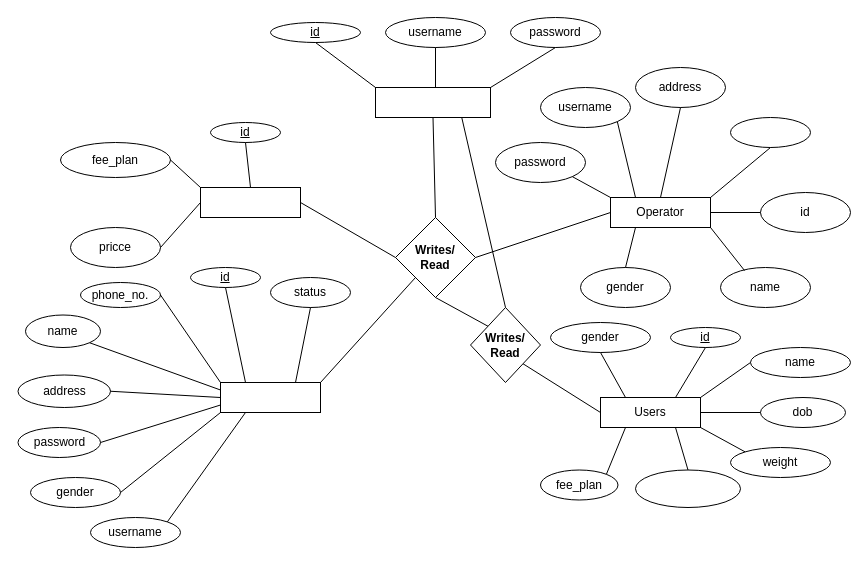
The diagram is 868 pixels wide and 565 high, and some of its shapes have lost their labels. Each missing label, with the box of its shape:
Admin Login: (374, 86, 490, 118)
Fee: (200, 186, 300, 218)
phone_no: (730, 116, 810, 148)
phoneno: (634, 469, 740, 508)
Trainer: (220, 382, 320, 412)
